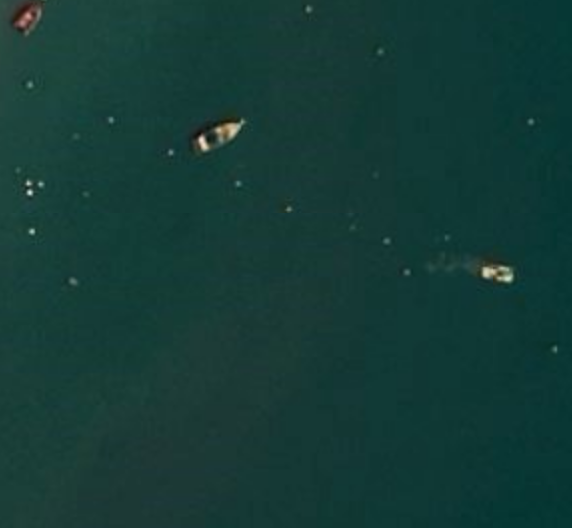ship: (190, 115, 249, 160), (10, 1, 49, 38), (479, 259, 518, 290)
